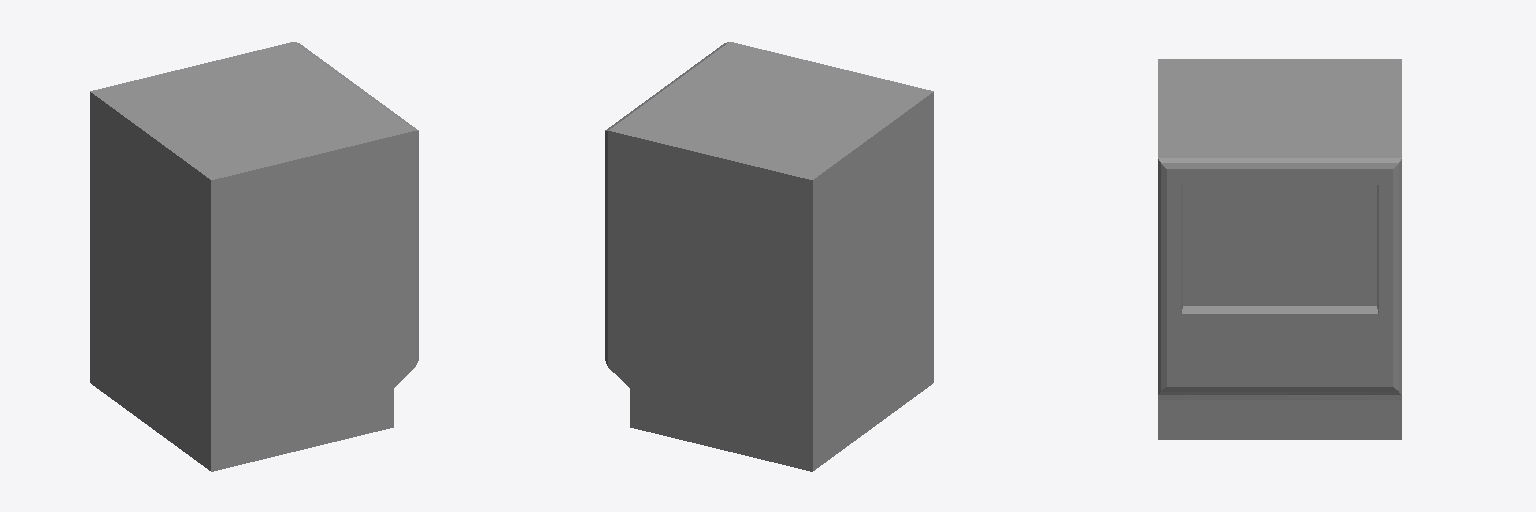
The picture shows the model from 3 angles: view 1: azimuth 30°, elevation 25°; view 2: azimuth 150°, elevation 25°; view 3: azimuth 270°, elevation 25°; orthographic projection.
Parts seen in each view (by area): view 1: 128_body_Cube.001; view 2: 128_body_Cube.001; view 3: 128_body_Cube.001, 128_screen_Cube.002.
Boxes of the visible parts, <box> form: 128_body_Cube.001: <box>90,42,418,471</box>; 128_body_Cube.001: <box>605,42,933,471</box>; 128_body_Cube.001: <box>1158,59,1401,439</box>; 128_screen_Cube.002: <box>1188,185,1371,301</box>.
Bounding box in the file's own units: 1.51 × 2 × 1.51.